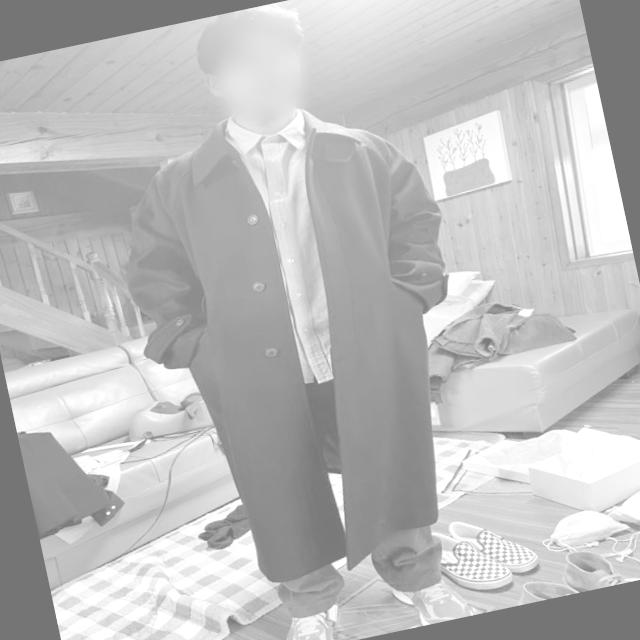coat: (97, 78, 505, 590)
cottonpants: (268, 526, 450, 625)
shirt: (218, 97, 368, 388)
